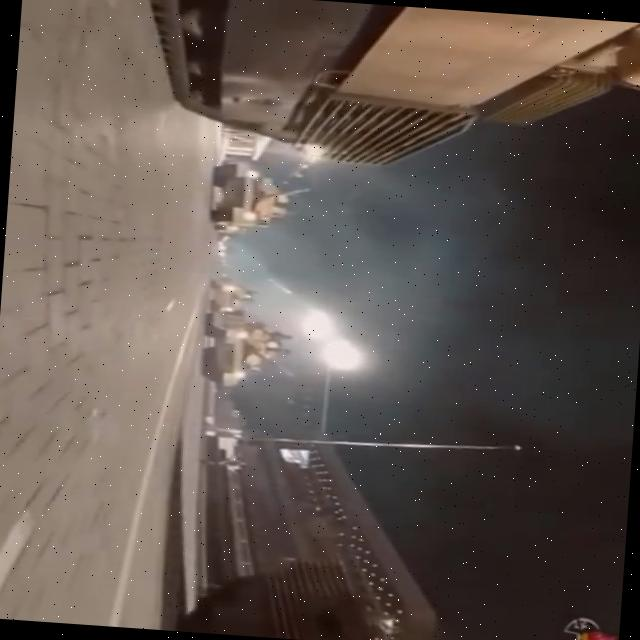north tank: (104, 0, 640, 182), (163, 289, 314, 411), (178, 147, 318, 258)
